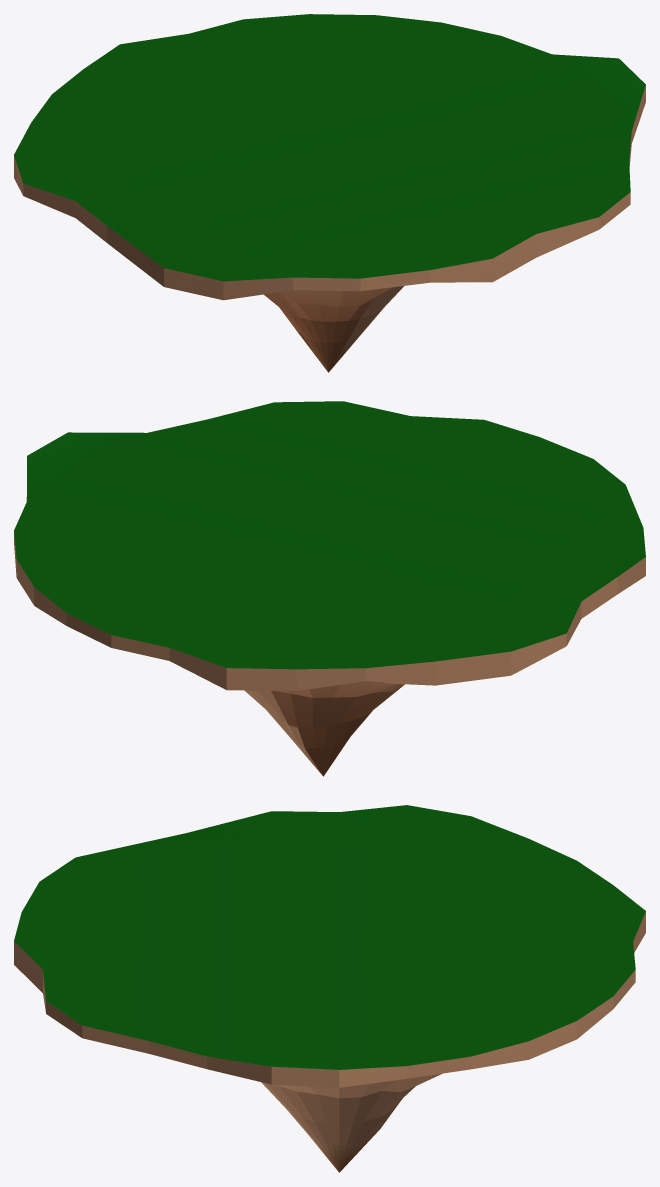
The model's file is Isola_volante.glb.
3 views of the same model, one above another, from view 1: azimuth 30°, elevation 25°; view 2: azimuth 150°, elevation 25°; view 3: azimuth 270°, elevation 25° (orthographic). The views are drawn at different scales.
Parts seen in each view (by area): view 1: Cylinder; view 2: Cylinder; view 3: Cylinder.
Part boxes in pixels (left/top/right/bottom): Cylinder: left=14, top=14, right=645, bottom=372; Cylinder: left=14, top=401, right=645, bottom=776; Cylinder: left=14, top=805, right=645, bottom=1172.
Bounding box in the file's own units: 447 × 185 × 430.
Materials: 1 (1 with a texture image).
